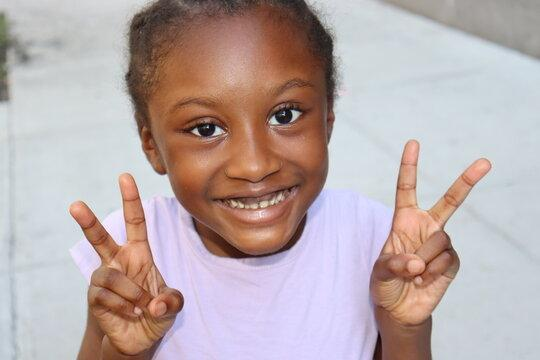peace_sign: (66, 166, 188, 356)
